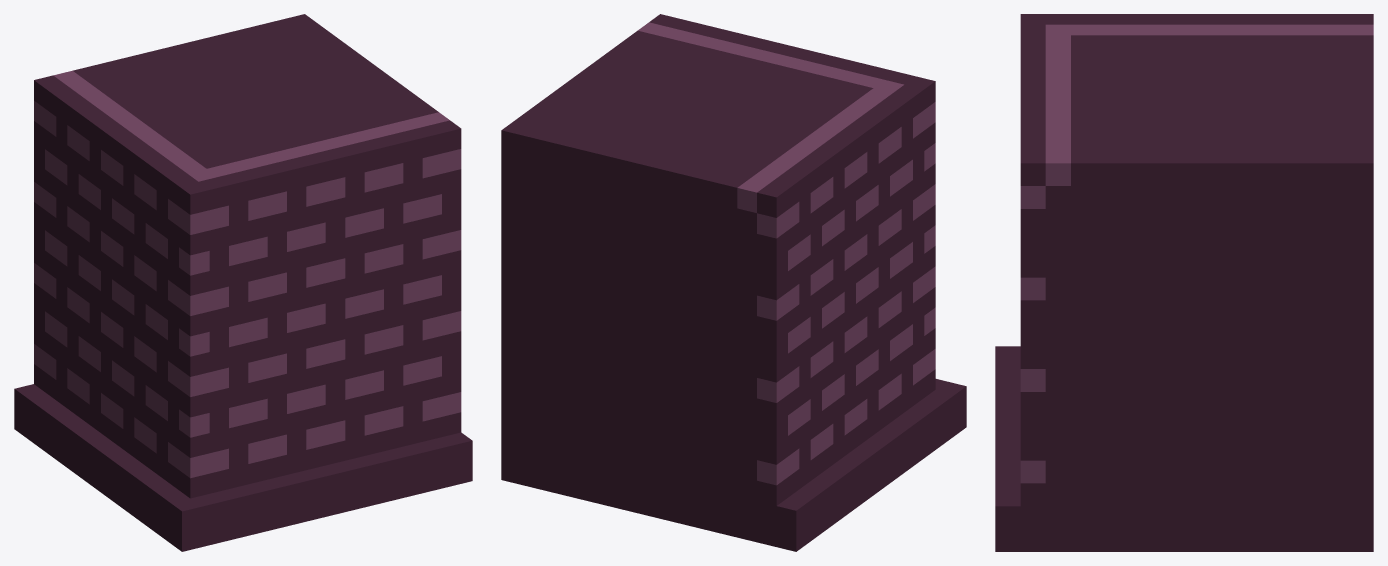
File: dungeon_c_a_outer_wall_corner_b.obj
The picture shows the model from 3 angles, left to right: view 1: azimuth 30°, elevation 25°; view 2: azimuth 150°, elevation 25°; view 3: azimuth 270°, elevation 25°; orthographic projection. The views are drawn at different scales.
Bounding box in the file's own units: 1.5 × 1.7 × 1.5.
Materials: 1 (1 with a texture image).
